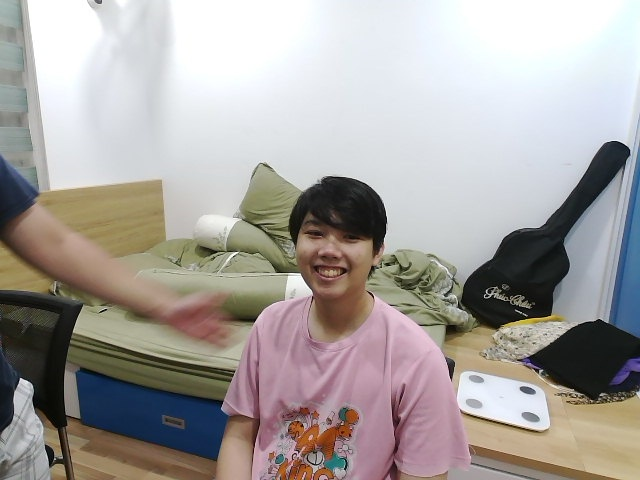face: (289, 176, 388, 303)
